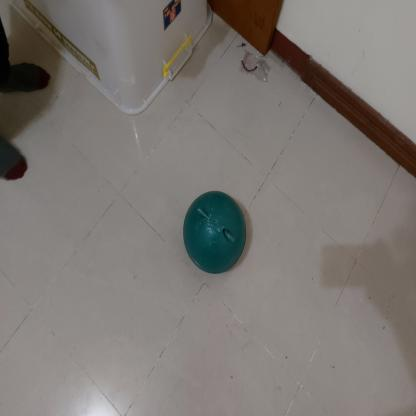green_buoy: (181, 190, 252, 278)
